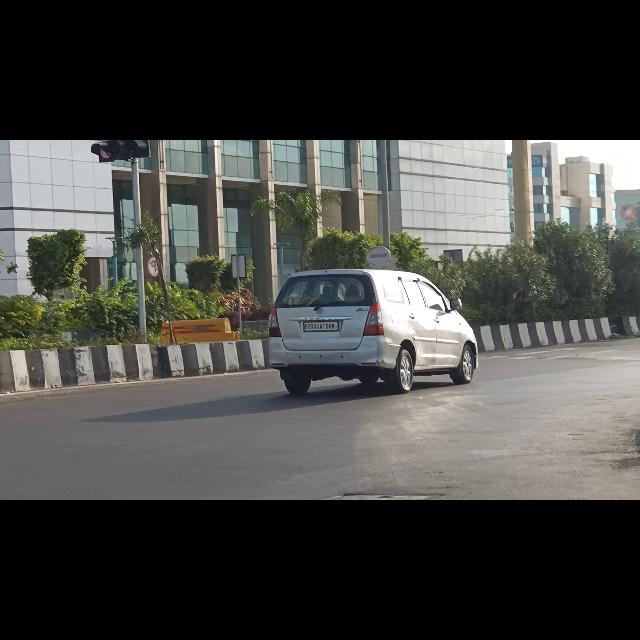vehicles: (267, 266, 479, 398)
